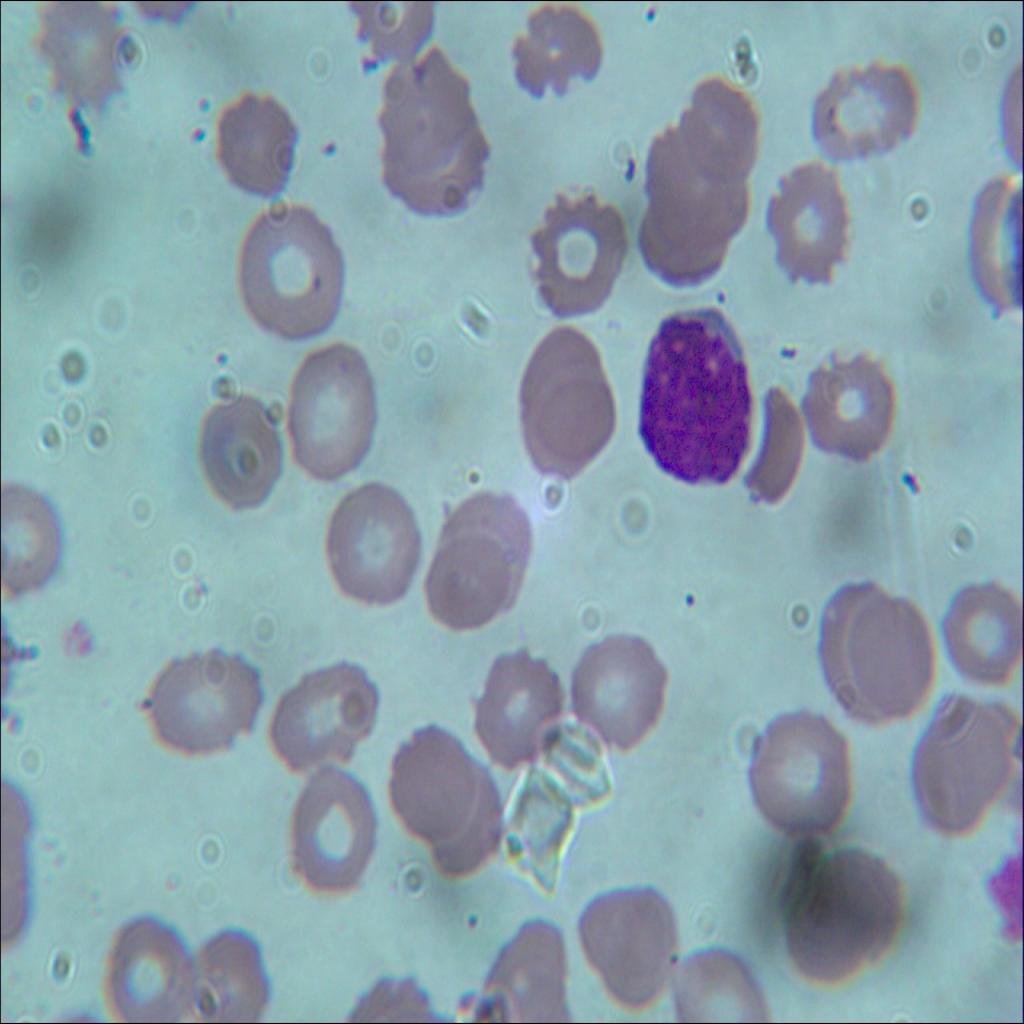Eritrosit: (224, 188, 351, 343), (523, 175, 631, 324), (789, 847, 910, 975), (743, 708, 856, 838), (513, 334, 618, 473), (916, 702, 1019, 837), (26, 0, 138, 124), (376, 111, 498, 224), (574, 618, 680, 748), (281, 341, 378, 482), (321, 475, 423, 607), (266, 654, 382, 770), (132, 651, 266, 751), (509, 4, 624, 118), (641, 127, 750, 241), (282, 768, 379, 894), (809, 56, 919, 164), (475, 645, 576, 762), (812, 574, 890, 725), (578, 884, 673, 1007), (191, 390, 286, 512), (760, 161, 850, 288), (628, 202, 735, 307), (369, 51, 468, 164), (802, 348, 895, 467), (446, 491, 538, 611), (852, 596, 934, 726), (938, 572, 1022, 692), (210, 94, 301, 198), (423, 760, 506, 872), (102, 920, 191, 1023), (483, 917, 566, 1023), (394, 728, 472, 838), (179, 932, 273, 1023), (683, 75, 758, 181), (0, 477, 66, 594), (428, 538, 506, 634), (744, 387, 804, 508)
Limfoblast: (635, 312, 753, 484)
Platelet: (55, 615, 96, 668), (208, 338, 238, 381), (673, 584, 710, 618), (313, 118, 339, 159), (711, 284, 738, 321), (639, 0, 662, 34), (778, 327, 796, 367), (195, 84, 216, 115), (184, 121, 206, 147), (461, 906, 481, 930)
